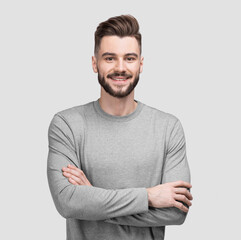young: (83, 12, 144, 105)
